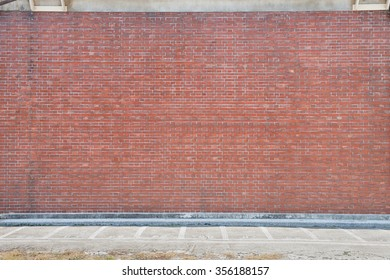Wall: (35, 19, 378, 210)
